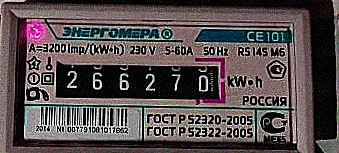0: (196, 72, 209, 93)
2: (64, 68, 79, 89), (143, 71, 156, 92)
6: (90, 70, 104, 91), (116, 71, 130, 90)
7: (168, 71, 182, 93)
screen: (45, 49, 233, 111)
